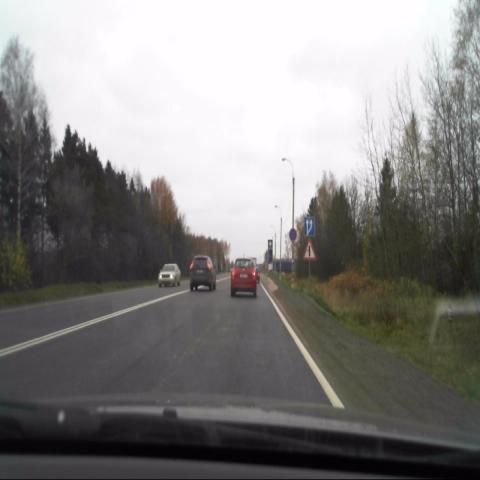2_3_3: (302, 237, 316, 260)
